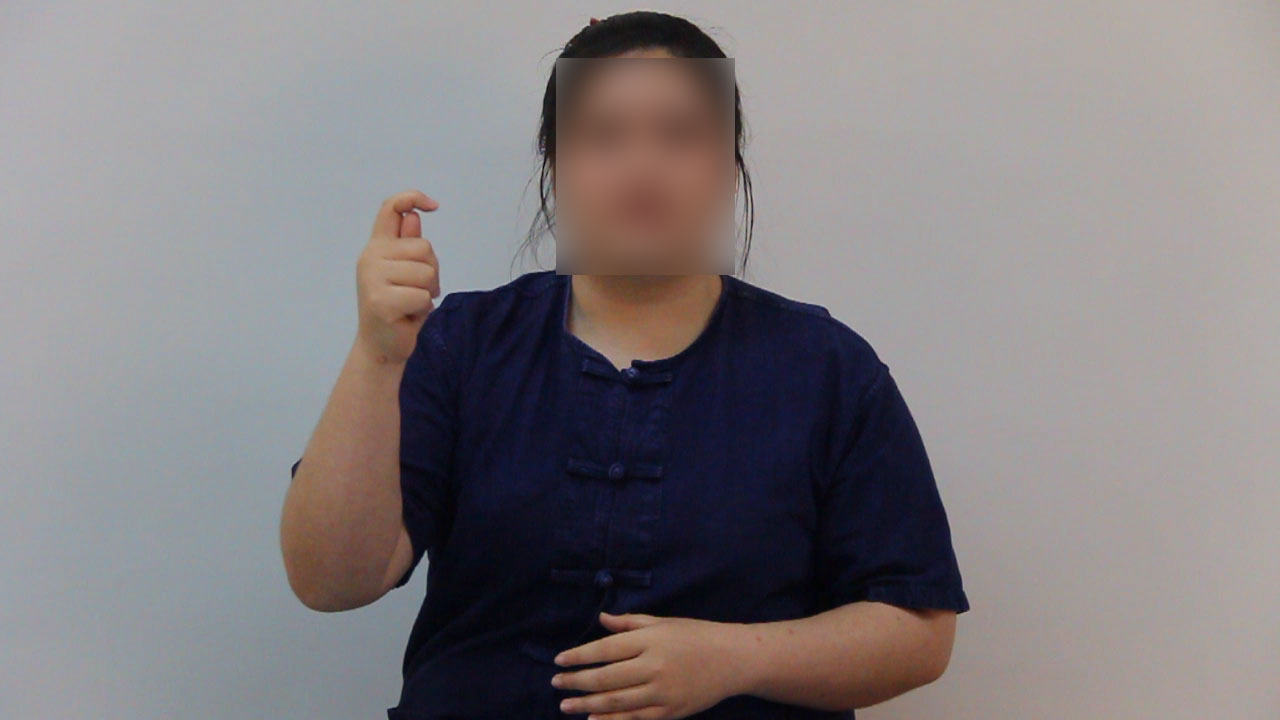or: (351, 186, 449, 370)
